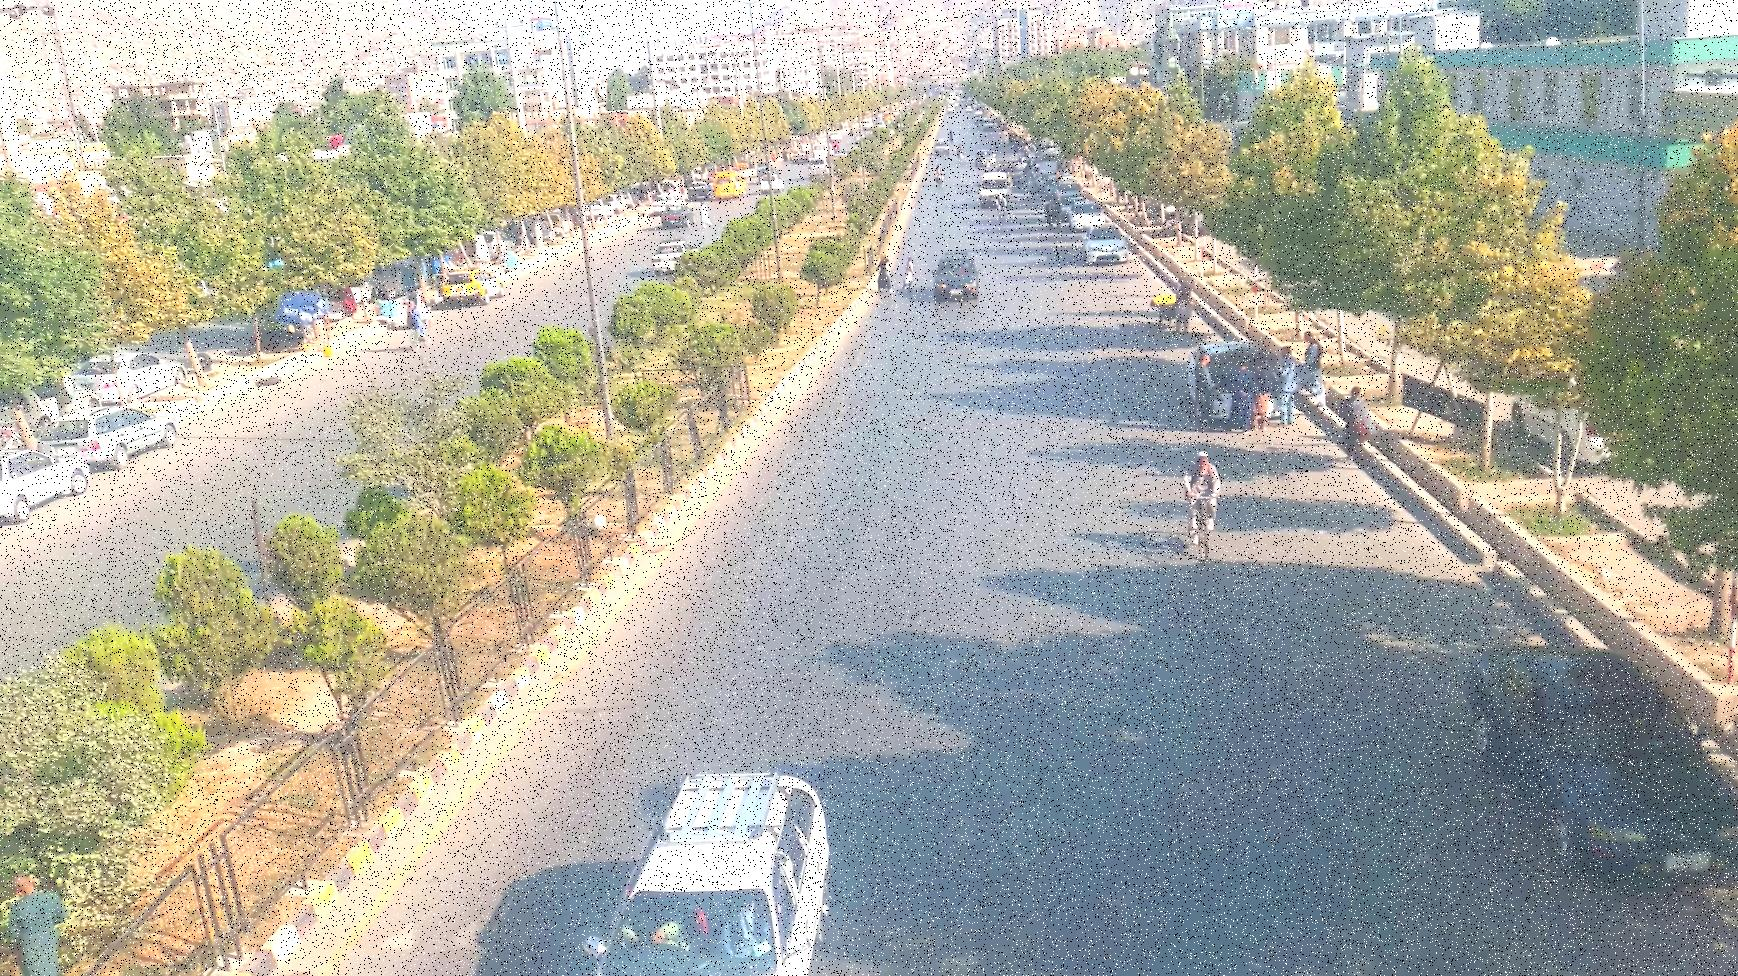car: (1467, 642, 1738, 879), (568, 772, 842, 976), (0, 447, 92, 529), (82, 409, 172, 463), (440, 268, 505, 304), (933, 252, 979, 294), (651, 240, 699, 274), (1080, 235, 1130, 266), (649, 206, 686, 226)
